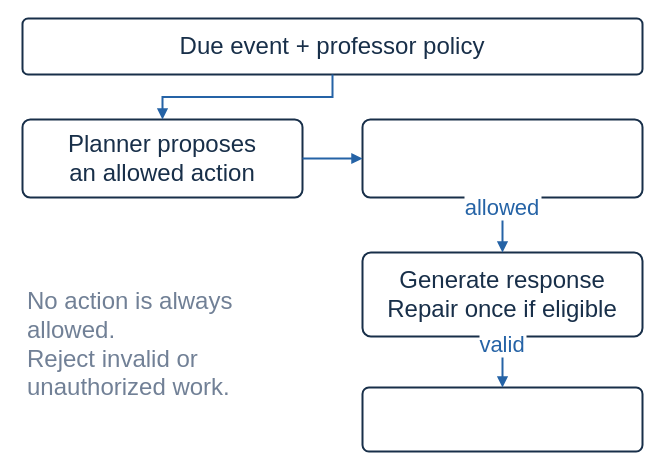
This 660x469 diagram has some shape labels left out. Here are the shapes that lost their labels. From the top down, the centre of each, then its label:
At point 502,158: "Code authorizes against current state".
At point 502,419: "Validate, deliver and commit outcome".
